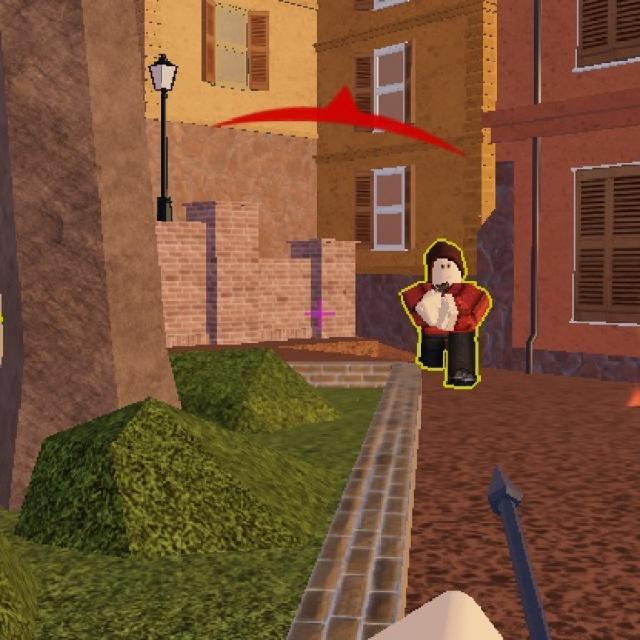player: (402, 235, 482, 384)
